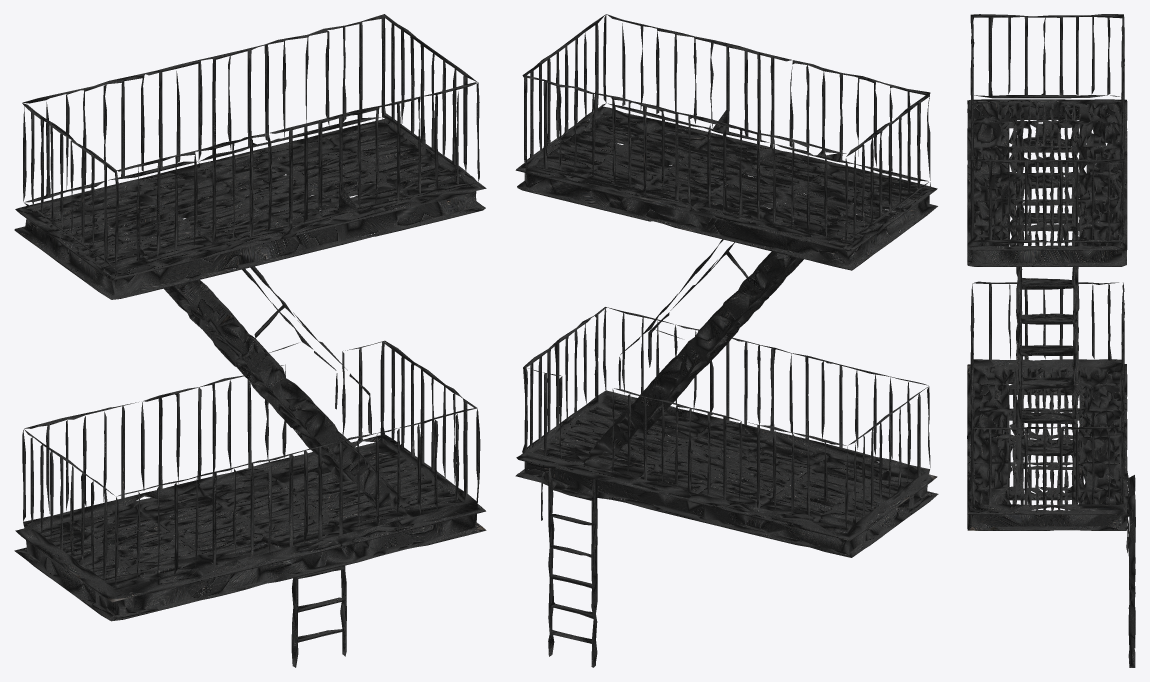
File: escalier_c.glb
The picture shows the model from 3 angles, left to right: view 1: azimuth 30°, elevation 25°; view 2: azimuth 150°, elevation 25°; view 3: azimuth 270°, elevation 25°; orthographic projection. The views are drawn at different scales.
Size of the model in its own units: 1.18 by 1.9 by 0.5559.
Materials: 1 (1 with a texture image).
